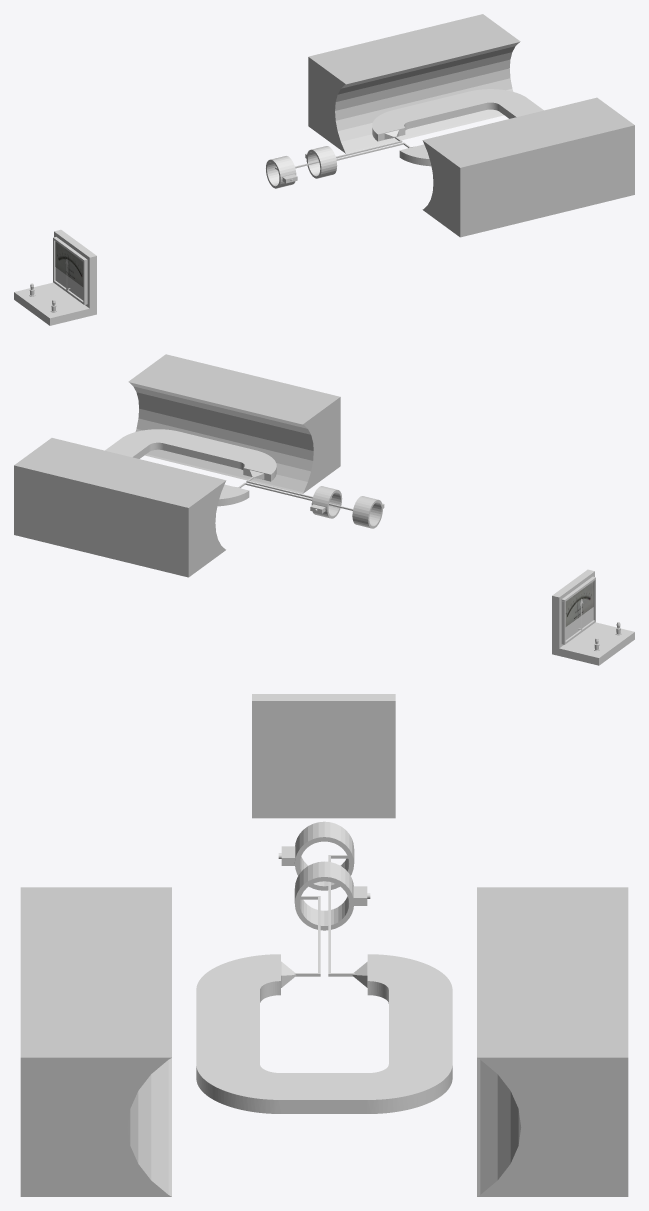
The model's file is AC_gen no animation.gltf.
3 renders of one model, top to bottom at view 1: azimuth 30°, elevation 25°; view 2: azimuth 150°, elevation 25°; view 3: azimuth 270°, elevation 25°, orthographic. The views are drawn at different scales.
Visible parts, largest first — view 1: Cube, Cube.003, Cube.025, Cube.011, Cube.026, Cylinder, Cube.012, Cube.027, Cylinder.001, Cube.010, Cube.009, Cube.015; view 2: Cube.003, Cube, Cube.025, Cube.014, Cube.026, Cylinder.001, Cube.015, Cube.027, Cylinder, Cube.013, Cube.009, Cube.012; view 3: Cube, Cube.003, Cube.026, Cube.011, Cube.014, Cube.009, Cube.013, Cube.010, Cube.012, Cube.015, Cylinder, Cube.025 (+1 smaller).
Boxes of the visible parts, left/top/right/bottom form: Cube: left=422, top=97, right=634, bottom=237; Cube.003: left=308, top=14, right=520, bottom=153; Cube.025: left=14, top=282, right=96, bottom=325; Cube.011: left=394, top=91, right=485, bottom=128; Cube.026: left=54, top=229, right=96, bottom=315; Cylinder: left=306, top=146, right=337, bottom=178; Cube.012: left=372, top=110, right=409, bottom=141; Cube.027: left=55, top=241, right=83, bottom=286; Cylinder.001: left=266, top=156, right=296, bottom=188; Cube.010: left=469, top=89, right=526, bottom=110; Cube.009: left=499, top=98, right=543, bottom=118; Cube.015: left=399, top=144, right=431, bottom=166; Cube.003: left=14, top=438, right=226, bottom=577; Cube: left=128, top=354, right=340, bottom=493; Cube.025: left=553, top=622, right=634, bottom=665; Cube.014: left=163, top=431, right=255, bottom=468; Cube.026: left=552, top=569, right=594, bottom=655; Cylinder.001: left=352, top=496, right=382, bottom=528; Cube.015: left=239, top=450, right=276, bottom=481; Cube.027: left=565, top=581, right=593, bottom=626; Cylinder: left=311, top=486, right=342, bottom=518; Cube.013: left=122, top=429, right=178, bottom=451; Cube.009: left=105, top=438, right=149, bottom=458; Cube.012: left=217, top=484, right=249, bottom=506; Cube: left=20, top=887, right=171, bottom=1196; Cube.003: left=477, top=887, right=628, bottom=1196; Cube.026: left=252, top=694, right=395, bottom=802; Cube.011: left=389, top=989, right=452, bottom=1064; Cube.014: left=196, top=989, right=259, bottom=1064; Cube.009: left=280, top=1073, right=369, bottom=1113; Cube.013: left=196, top=1064, right=280, bottom=1113; Cube.010: left=367, top=1064, right=452, bottom=1113; Cube.012: left=367, top=954, right=452, bottom=1003; Cube.015: left=196, top=954, right=280, bottom=1002; Cylinder: left=294, top=861, right=354, bottom=930; Cube.025: left=252, top=803, right=395, bottom=818.
Size of the model in its own units: 17.14 by 3.56 by 8.56.
2 materials, 1 textured.
